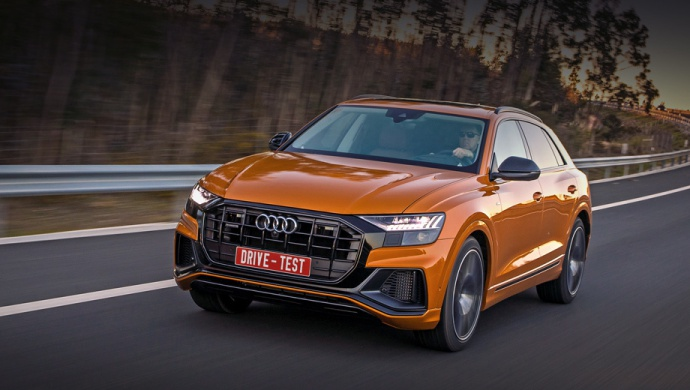audi: (253, 214, 302, 239)
